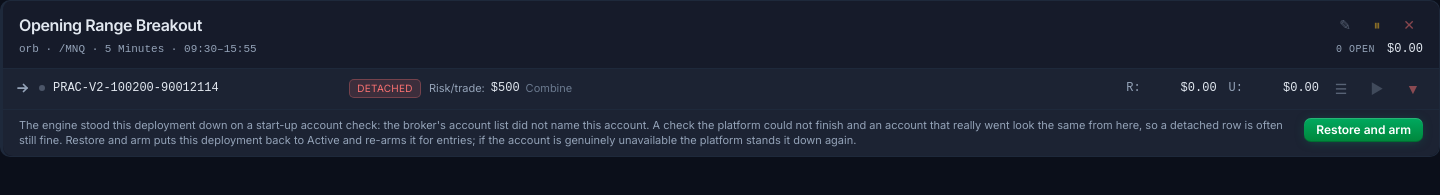
Test: BoardCard — a detached row carries the way back off itself › says a request that never landed changed nothing
Click the button "Restore and arm" at (1364, 130), box [1304,118,1423,142]
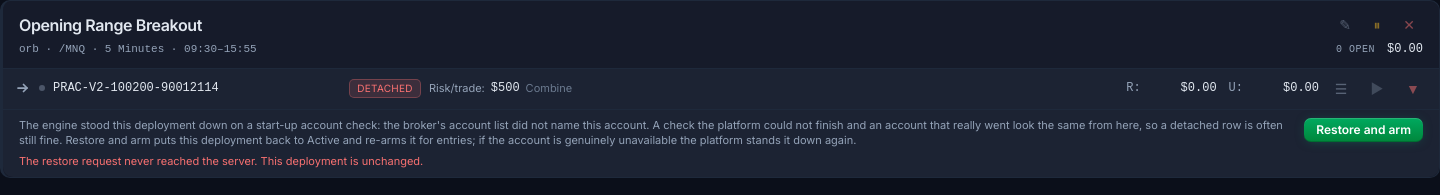
Check: the text "never reached the server" is shown, box [19,154,423,168]
Check: the text "This deployment is unchanged." is shown, box [19,154,423,168]
